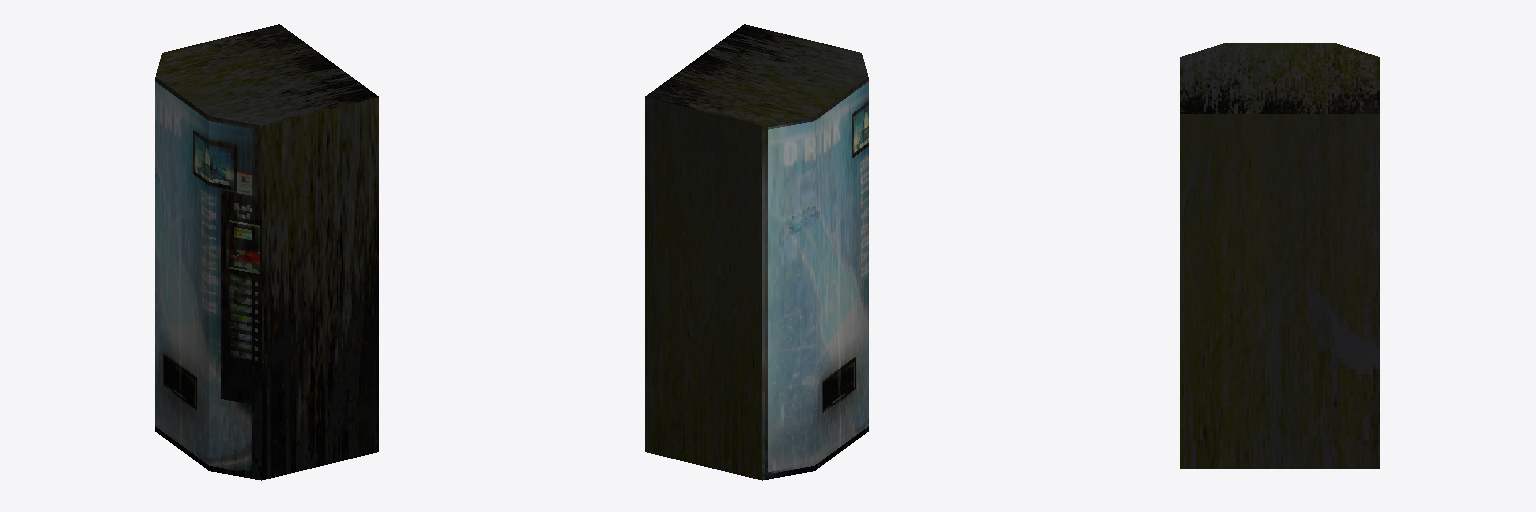
3 renders of one model, left to right at view 1: azimuth 30°, elevation 25°; view 2: azimuth 150°, elevation 25°; view 3: azimuth 270°, elevation 25°, orthographic.
Parts seen in each view (by area): view 1: vending_machine; view 2: vending_machine; view 3: vending_machine.
Boxes of the visible parts, x1=… form: vending_machine: x1=155, y1=24, x2=378, y2=480; vending_machine: x1=645, y1=24, x2=868, y2=480; vending_machine: x1=1180, y1=43, x2=1379, y2=468.
Bounding box in the file's own units: 0.8665 × 2 × 1.02.
Materials: 1 (1 with a texture image).